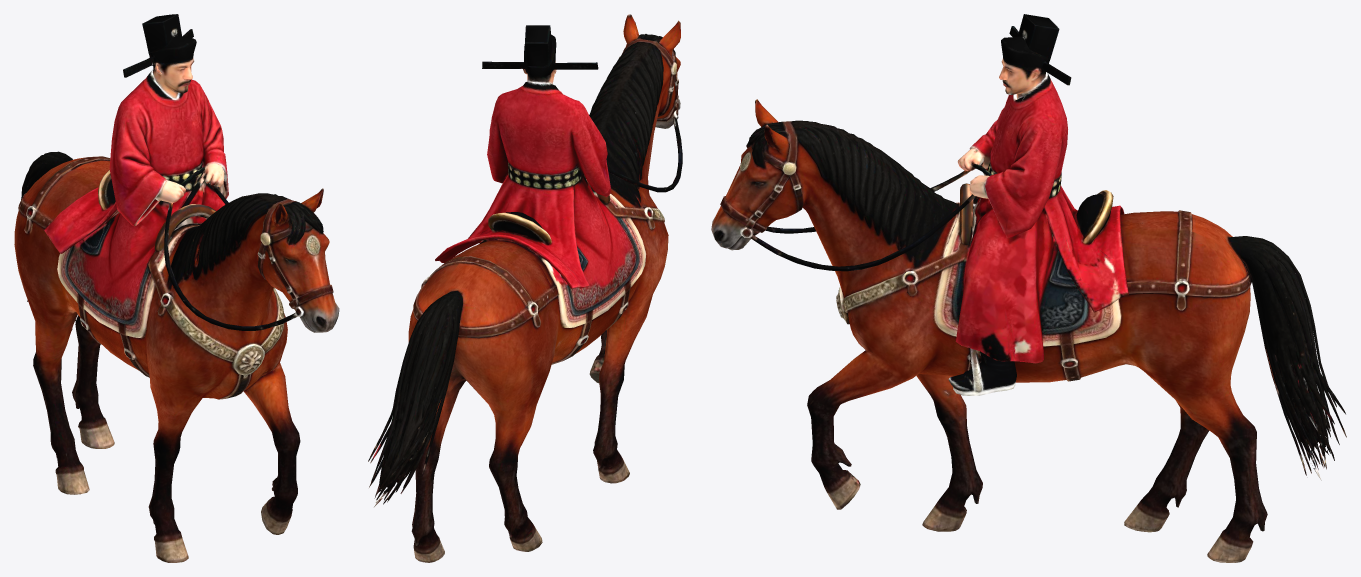
Rendered from qm_horse.glb.
The picture shows the model from 3 angles, left to right: view 1: azimuth 30°, elevation 25°; view 2: azimuth 150°, elevation 25°; view 3: azimuth 270°, elevation 25°; orthographic projection. The views are drawn at different scales.
Parts seen in each view (by area): view 1: qm_horse; view 2: qm_horse; view 3: qm_horse.
Part boxes in pixels (left/top/right/bottom): qm_horse: left=14, top=14, right=339, bottom=562; qm_horse: left=368, top=14, right=682, bottom=562; qm_horse: left=711, top=14, right=1346, bottom=562.
Size of the model in its own units: 0.8274 by 2.5 by 2.71.
1 material, 1 textured.
